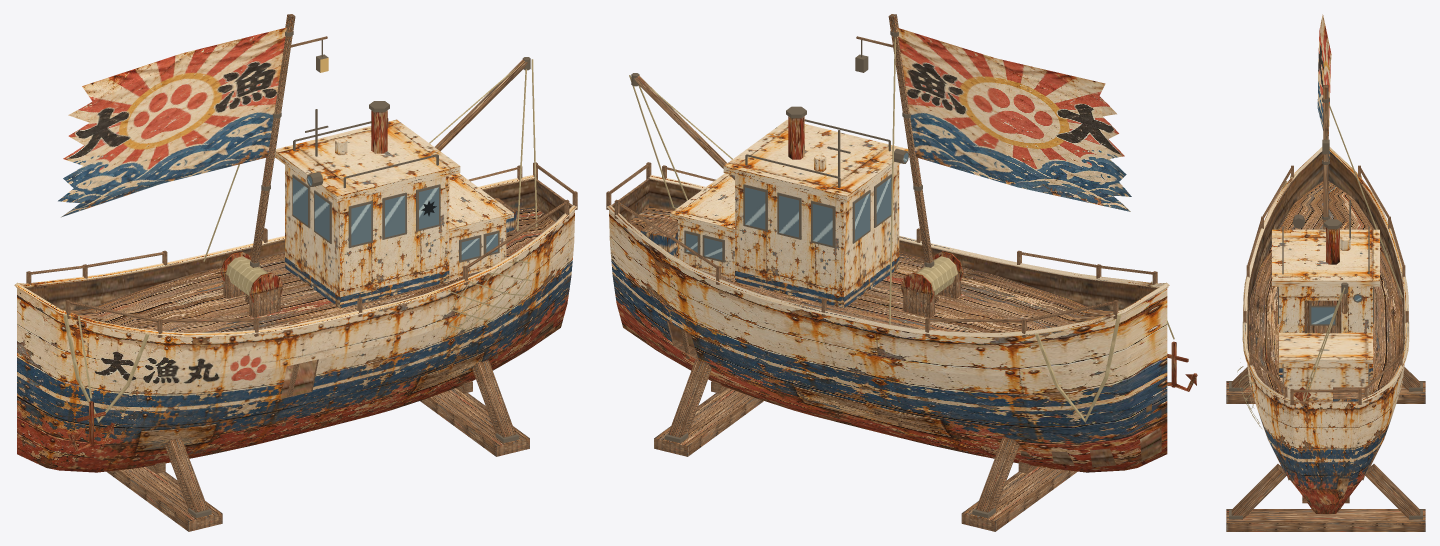
The model's file is nyanisyarud-harbor-boat.glb.
3 views of the same model, side by side, from view 1: azimuth 30°, elevation 25°; view 2: azimuth 150°, elevation 25°; view 3: azimuth 270°, elevation 25° (orthographic). The views are drawn at different scales.
Visible parts, largest first — view 1: Showa_Old_Fishing_Boat; view 2: Showa_Old_Fishing_Boat; view 3: Showa_Old_Fishing_Boat.
Boxes of the visible parts, bbox=[...] form: Showa_Old_Fishing_Boat: bbox=[14, 14, 577, 531]; Showa_Old_Fishing_Boat: bbox=[606, 14, 1197, 531]; Showa_Old_Fishing_Boat: bbox=[1226, 14, 1425, 531].
Bounding box in the file's own units: 7.7 × 5.91 × 2.88.
Materials: 1 (1 with a texture image).
